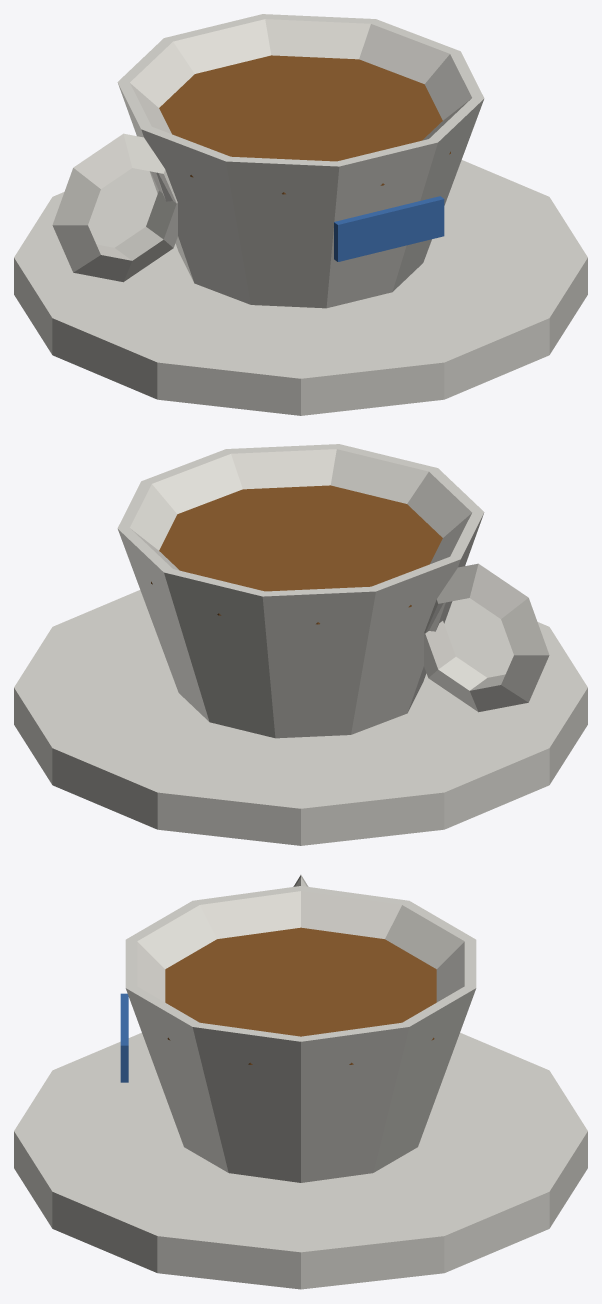
The model's file is teacup.fbx.
3 renders of one model, top to bottom at view 1: azimuth 30°, elevation 25°; view 2: azimuth 150°, elevation 25°; view 3: azimuth 270°, elevation 25°, orthographic.
Visible parts, largest first — view 1: teacup; view 2: teacup; view 3: teacup.
Part boxes in pixels (x1,y1,x2,y2): teacup: (14, 14, 587, 415); teacup: (14, 444, 587, 845); teacup: (14, 875, 587, 1289).
Bounding box in the file's own units: 0.56 × 0.22 × 0.56.
